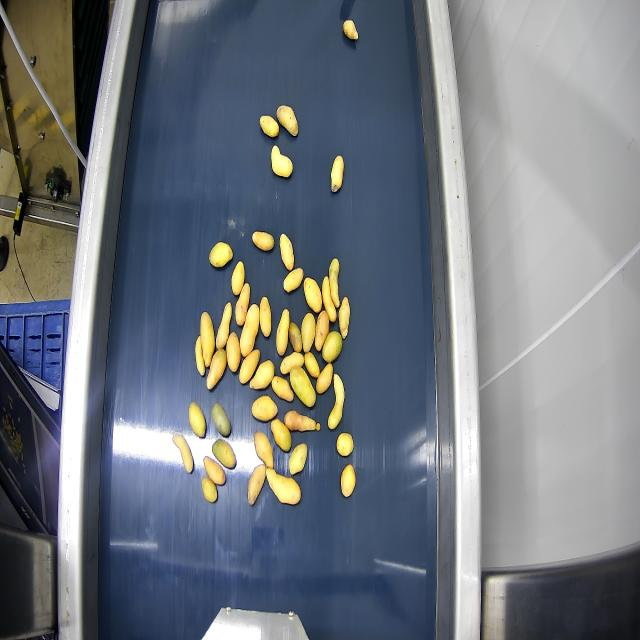Baby Potato: (266, 469, 300, 504), (240, 304, 259, 357), (290, 367, 315, 407), (328, 374, 344, 429), (200, 312, 215, 367), (206, 350, 226, 390), (173, 435, 193, 473), (216, 303, 232, 349), (250, 360, 274, 390), (284, 411, 319, 431), (248, 464, 265, 505), (254, 432, 273, 468), (235, 282, 250, 327), (276, 308, 290, 356), (271, 145, 292, 177), (212, 440, 235, 469), (239, 350, 259, 383), (271, 419, 291, 452), (277, 105, 298, 136), (252, 396, 277, 422), (303, 278, 322, 312), (322, 277, 336, 322), (322, 331, 342, 362), (330, 152, 344, 196), (212, 403, 230, 437), (204, 456, 225, 485), (189, 402, 205, 438), (209, 242, 232, 267), (315, 311, 329, 351), (301, 312, 315, 352), (226, 332, 240, 372), (289, 444, 307, 475), (271, 376, 293, 401), (280, 352, 303, 375), (316, 363, 333, 394), (280, 234, 294, 271), (329, 258, 339, 308), (260, 297, 272, 338), (283, 268, 303, 292), (341, 464, 355, 497), (252, 232, 274, 251), (339, 297, 349, 338), (232, 261, 244, 295), (260, 115, 278, 137), (195, 336, 205, 375), (288, 322, 301, 352), (202, 478, 217, 503), (337, 433, 353, 456), (305, 352, 319, 378), (343, 20, 357, 40)
